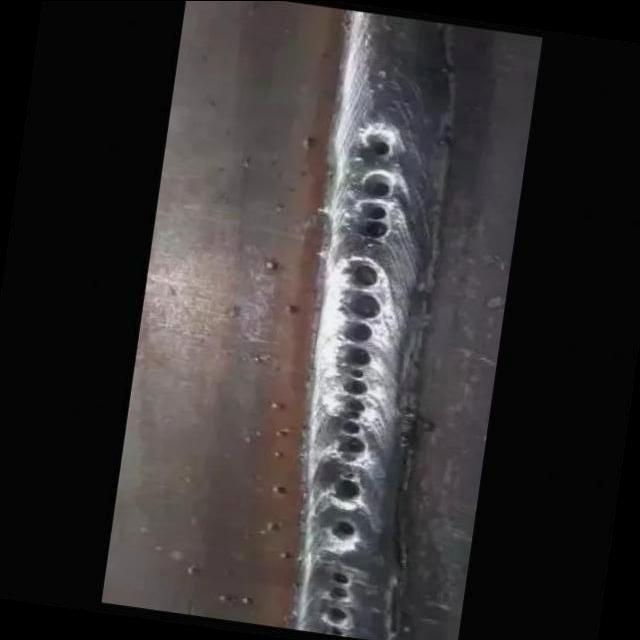defect: (335, 260, 386, 466), (351, 166, 399, 243), (324, 571, 355, 636), (329, 474, 370, 503), (330, 518, 363, 541), (364, 132, 390, 159)
